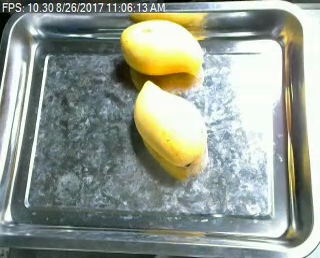Mango: (127, 79, 215, 168), (114, 15, 206, 79)
